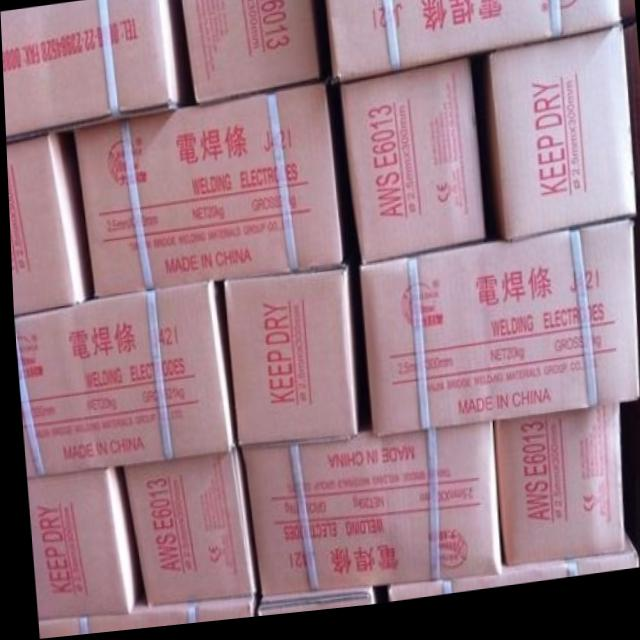box: (357, 233, 634, 445), (72, 89, 341, 299), (237, 430, 496, 601), (11, 285, 231, 477), (487, 39, 633, 250), (339, 66, 482, 272), (324, 0, 619, 91), (0, 0, 181, 141), (221, 270, 354, 450), (118, 448, 251, 610), (489, 416, 619, 575), (22, 468, 133, 619), (382, 545, 632, 608), (5, 131, 87, 315), (181, 0, 319, 107), (32, 593, 249, 639), (251, 594, 370, 621)
